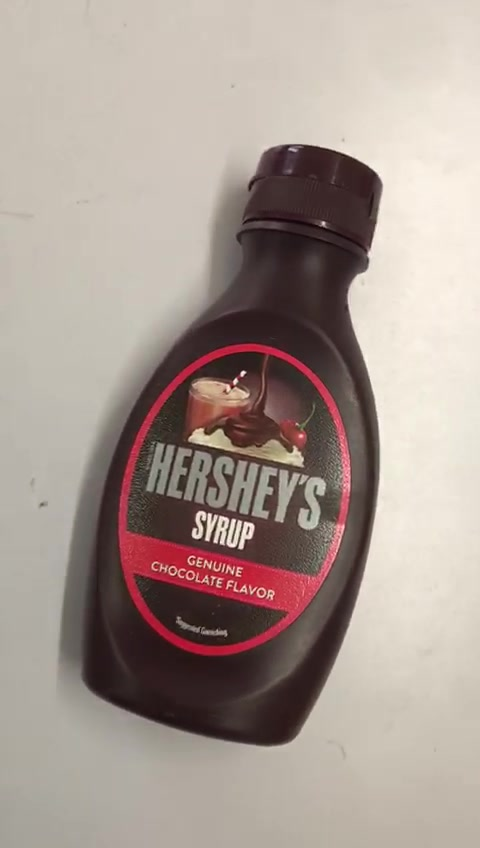hershey: (82, 147, 386, 748)
